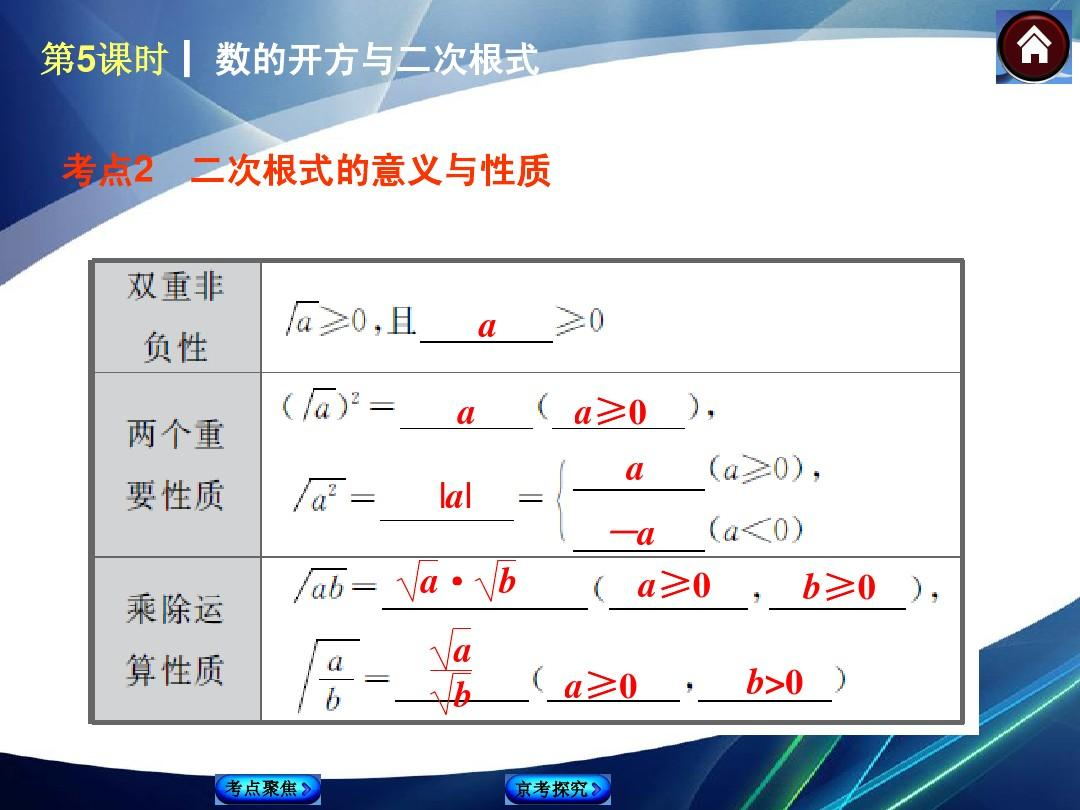division: (429, 664, 478, 677), (315, 673, 353, 689)
sqrt: (290, 633, 365, 715), (287, 472, 345, 523), (394, 556, 438, 605), (293, 560, 345, 601), (485, 554, 530, 600), (297, 384, 344, 426), (281, 295, 321, 342), (437, 625, 475, 664), (435, 666, 477, 700)
square: (346, 389, 360, 410), (328, 476, 340, 498)
